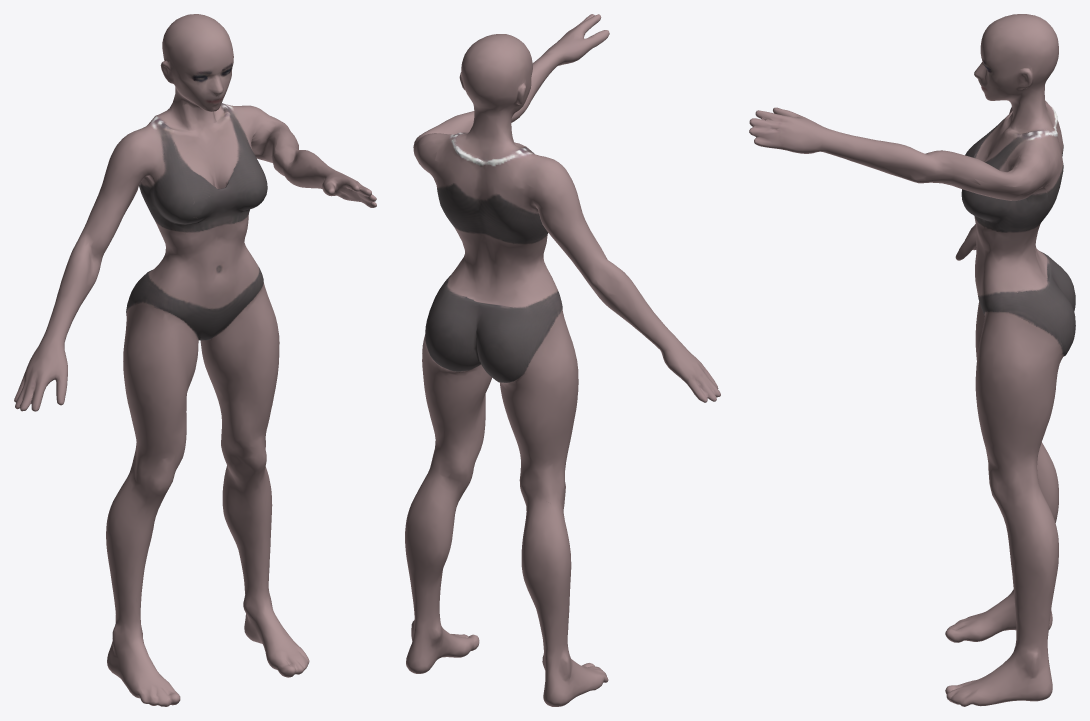
Rendered from 04-UpperArmR-90-child0-twist0-candidate.glb.
The picture shows the model from 3 angles, left to right: view 1: azimuth 30°, elevation 25°; view 2: azimuth 150°, elevation 25°; view 3: azimuth 270°, elevation 25°; orthographic projection.
Parts seen in each view (by area): view 1: candidate; view 2: candidate; view 3: candidate.
Boxes of the visible parts, <box> form: candidate: <box>14,14,376,706</box>; candidate: <box>405,14,720,706</box>; candidate: <box>749,14,1075,706</box>.
Bounding box in the file's own units: 0.4621 × 1 × 0.455.
Materials: 1 (1 with a texture image).
